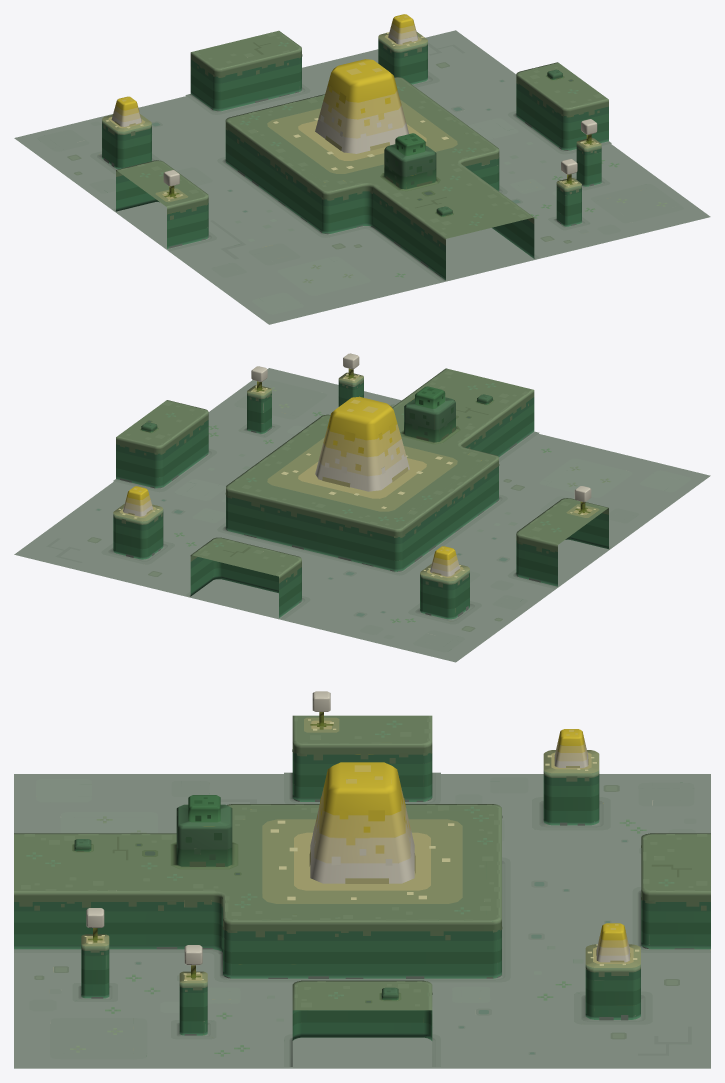
Rendered from C_cave2_08.fbx.
The picture shows the model from 3 angles, top to bottom: view 1: azimuth 30°, elevation 25°; view 2: azimuth 150°, elevation 25°; view 3: azimuth 270°, elevation 25°; orthographic projection. The views are drawn at different scales.
Visible parts, largest first — view 1: C_cave2_08; view 2: C_cave2_08; view 3: C_cave2_08.
Boxes of the visible parts, x1,y1,x2,y2 form: C_cave2_08: (14, 14, 710, 324); C_cave2_08: (14, 353, 710, 662); C_cave2_08: (14, 691, 710, 1068).
Size of the model in its own units: 50 by 11.65 by 50.
